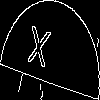X: (25, 25, 52, 77)
